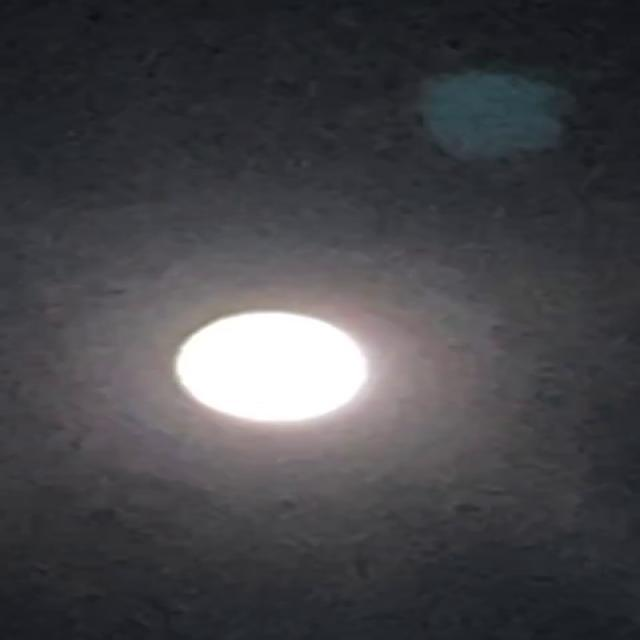moon: (158, 294, 381, 438)
